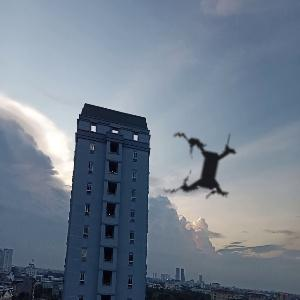drone: (134, 99, 275, 240)
